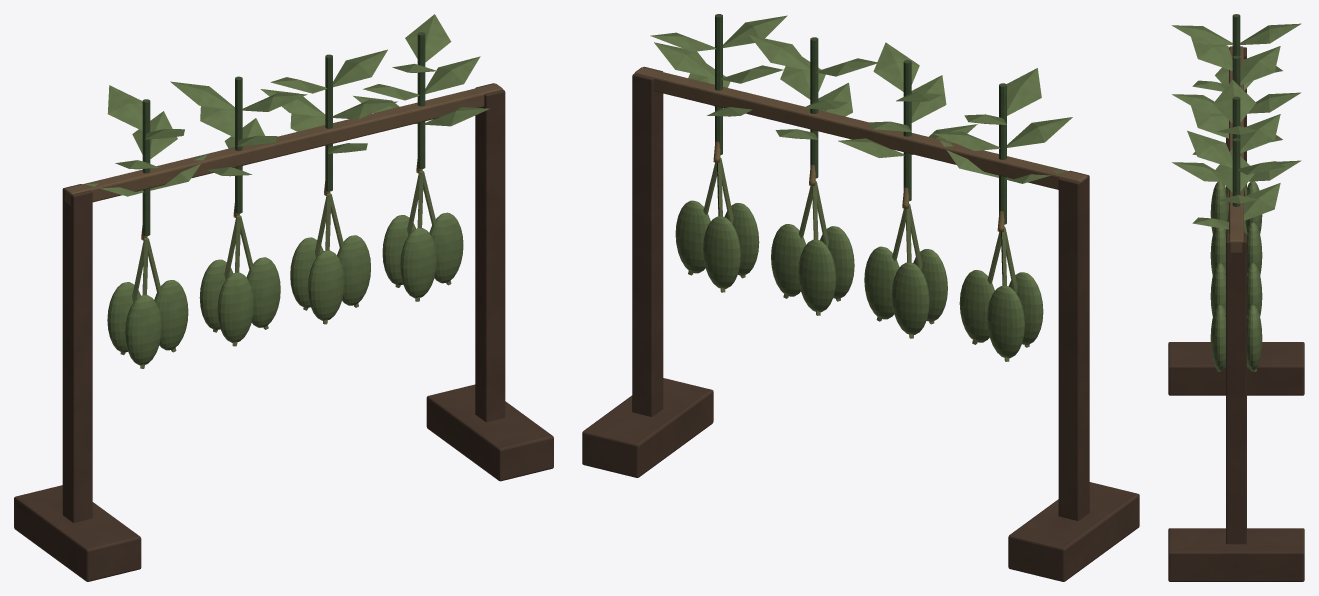
File: Hanging_Herbs.fbx
3 renders of one model, left to right at view 1: azimuth 30°, elevation 25°; view 2: azimuth 150°, elevation 25°; view 3: azimuth 270°, elevation 25°, orthographic. The views are drawn at different scales.
Visible parts, largest first — view 1: Hanging_Herbs.001; view 2: Hanging_Herbs.001; view 3: Hanging_Herbs.001.
Part boxes in pixels (x1,y1,x2,y2): Hanging_Herbs.001: (14, 14, 553, 581); Hanging_Herbs.001: (582, 14, 1139, 581); Hanging_Herbs.001: (1168, 14, 1304, 581).
Bounding box in the file's own units: 2.38 × 2.1 × 0.65.
